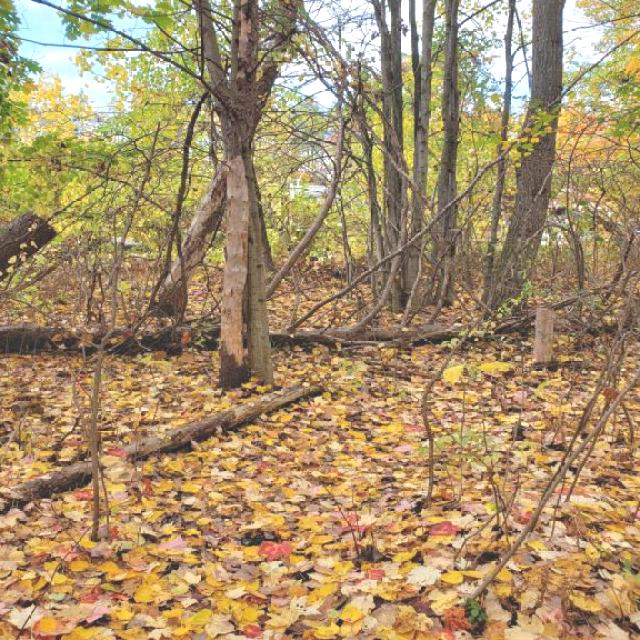fallen_object: (0, 362, 383, 516)
